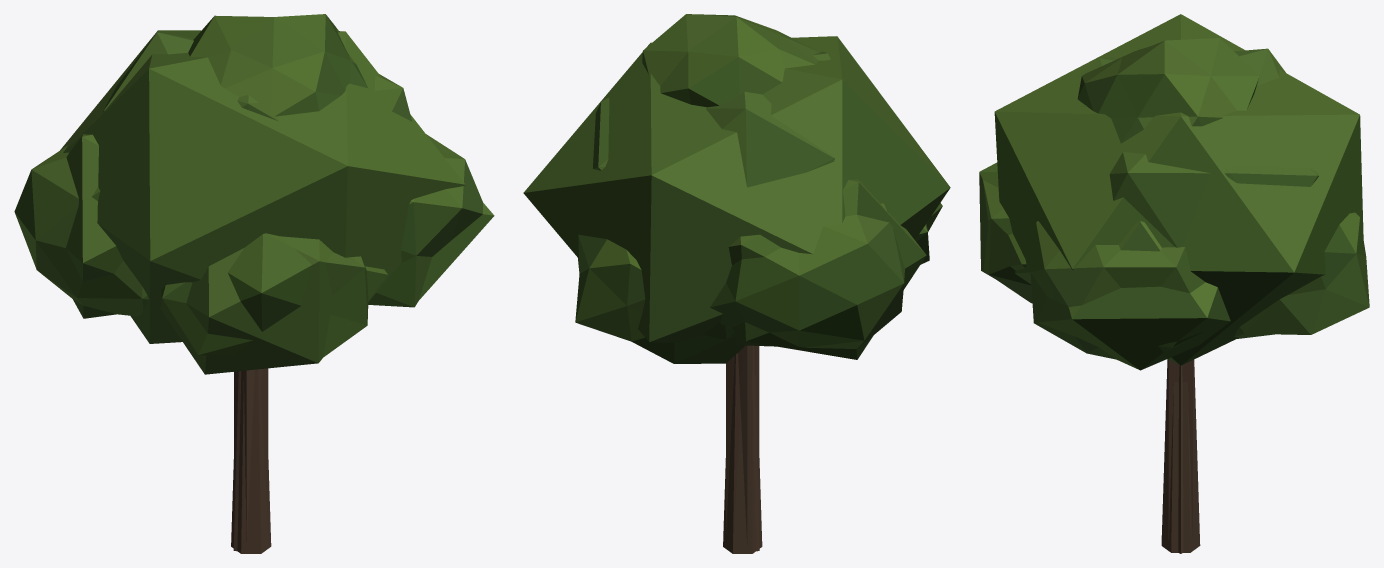
The model's file is tree-leafy.glb.
The picture shows the model from 3 angles, left to right: view 1: azimuth 30°, elevation 25°; view 2: azimuth 150°, elevation 25°; view 3: azimuth 270°, elevation 25°; orthographic projection. The views are drawn at different scales.
Visible parts, largest first — view 1: lod2_crown, lod0_leaves5, lod1_leaves3, lod0_leaves4, lod0_leaves2, lod0_leaves1, lod1_leaves1, lod0_trunk, lod0_leaves0, lod2_trunk, lod1_leaves2, lod1_trunk; view 2: lod2_crown, lod0_leaves2, lod0_leaves5, lod0_leaves3, lod0_leaves0, lod1_leaves1, lod0_trunk, lod2_trunk, lod1_trunk; view 3: lod2_crown, lod0_leaves5, lod1_leaves2, lod0_leaves1, lod0_leaves0, lod0_leaves3, lod0_trunk, lod0_leaves4, lod2_trunk, lod1_leaves3, lod1_trunk.
Boxes of the visible parts, <box> form: lod2_crown: <box>60,30,465,343</box>; lod0_leaves5: <box>188,14,367,116</box>; lod1_leaves3: <box>160,236,387,374</box>; lod0_leaves4: <box>161,233,368,357</box>; lod0_leaves2: <box>14,145,148,316</box>; lod0_leaves1: <box>368,134,482,307</box>; lod1_leaves1: <box>66,134,123,318</box>; lod0_trunk: <box>231,369,271,553</box>; lod0_leaves0: <box>103,32,412,121</box>; lod2_trunk: <box>234,368,268,540</box>; lod1_leaves2: <box>418,202,494,300</box>; lod1_trunk: <box>233,371,241,551</box>; lod2_crown: <box>523,36,950,346</box>; lod0_leaves2: <box>710,203,904,348</box>; lod0_leaves5: <box>642,14,819,107</box>; lod0_leaves3: <box>575,234,744,363</box>; lod0_leaves0: <box>593,51,834,187</box>; lod1_leaves1: <box>728,179,926,359</box>; lod0_trunk: <box>723,353,762,553</box>; lod2_trunk: <box>726,345,759,544</box>; lod1_trunk: <box>752,345,759,551</box>; lod2_crown: <box>994,14,1363,365</box>; lod0_leaves5: <box>1077,38,1259,143</box>; lod1_leaves2: <box>1037,220,1230,370</box>; lod0_leaves1: <box>1030,221,1205,359</box>; lod0_leaves0: <box>1074,48,1318,247</box>; lod0_leaves3: <box>1234,212,1369,338</box>; lod0_trunk: <box>1161,359,1200,552</box>; lod0_leaves4: <box>983,180,1032,303</box>; lod2_trunk: <box>1168,360,1192,539</box>; lod1_leaves3: <box>979,162,1026,277</box>; lod1_trunk: <box>1178,365,1183,553</box>.
Size of the model in its own units: 5.2 by 7.01 by 4.84.
